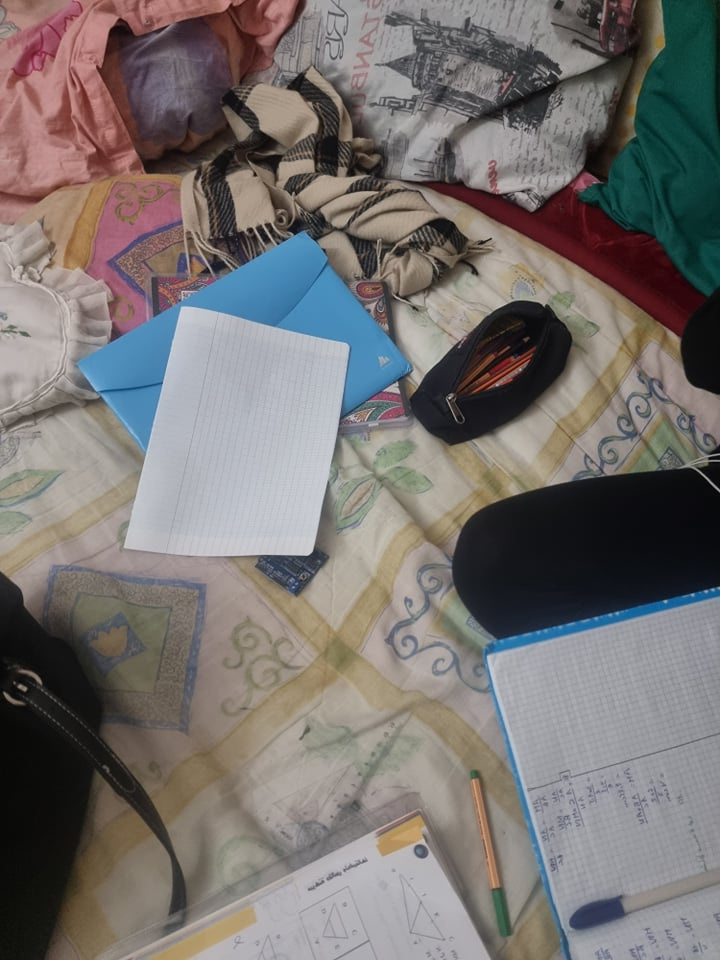5V EXPANSION: (254, 540, 330, 596)
